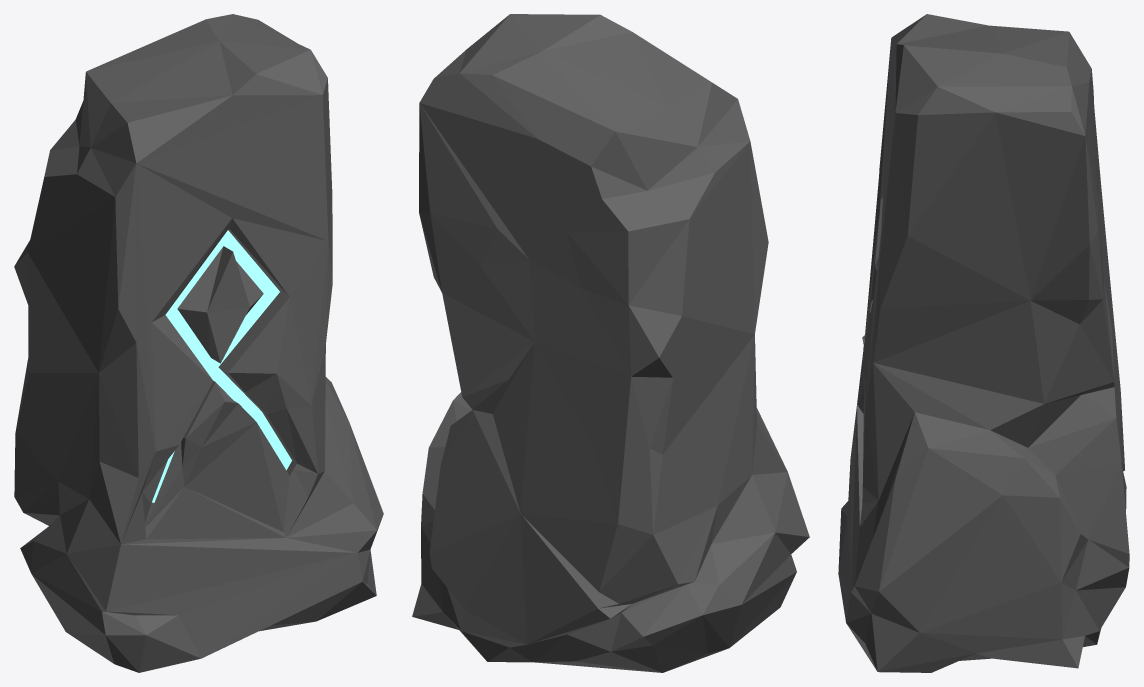
Rendered from SFNP_Runestone_003.fbx.
The picture shows the model from 3 angles, left to right: view 1: azimuth 30°, elevation 25°; view 2: azimuth 150°, elevation 25°; view 3: azimuth 270°, elevation 25°; orthographic projection. The views are drawn at different scales.
Visible parts, largest first — view 1: SFNP_Runestone_003; view 2: SFNP_Runestone_003; view 3: SFNP_Runestone_003.
Boxes of the visible parts, x1,y1,x2,y2 form: SFNP_Runestone_003: (14,14,383,672); SFNP_Runestone_003: (412,14,809,672); SFNP_Runestone_003: (838,14,1129,672).
Size of the model in its own units: 59.13 by 108 by 47.55.
